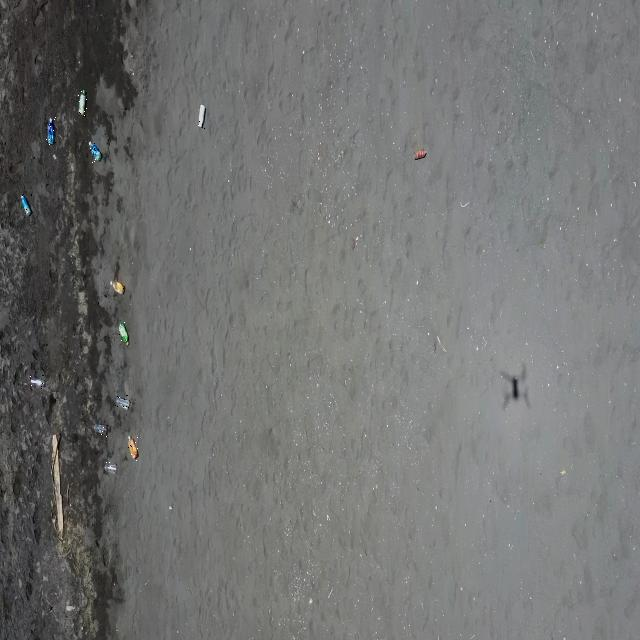plastic-bottle: (87, 140, 103, 163), (46, 117, 56, 146), (20, 194, 32, 218), (78, 89, 88, 117), (118, 320, 129, 345), (128, 435, 138, 461), (110, 278, 124, 294), (198, 104, 206, 129)
takeaway-cup: (115, 395, 131, 411), (93, 422, 108, 437), (30, 375, 45, 389), (103, 462, 118, 475)
